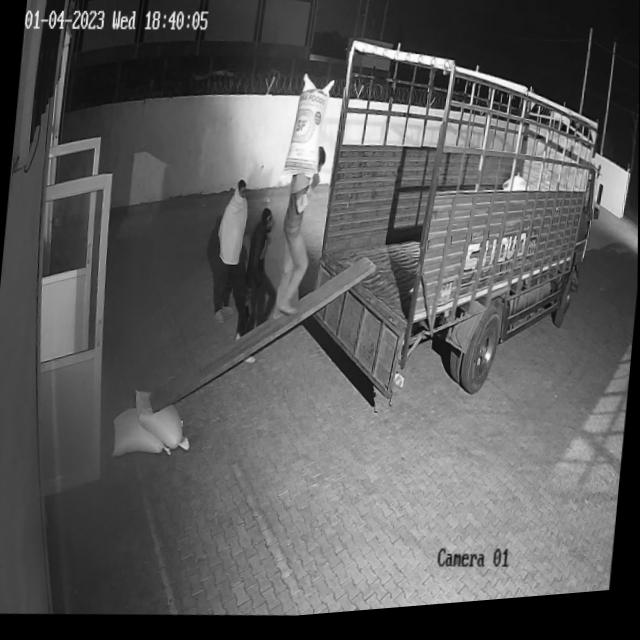sack: (282, 75, 334, 187), (130, 386, 187, 456), (110, 406, 167, 460)
